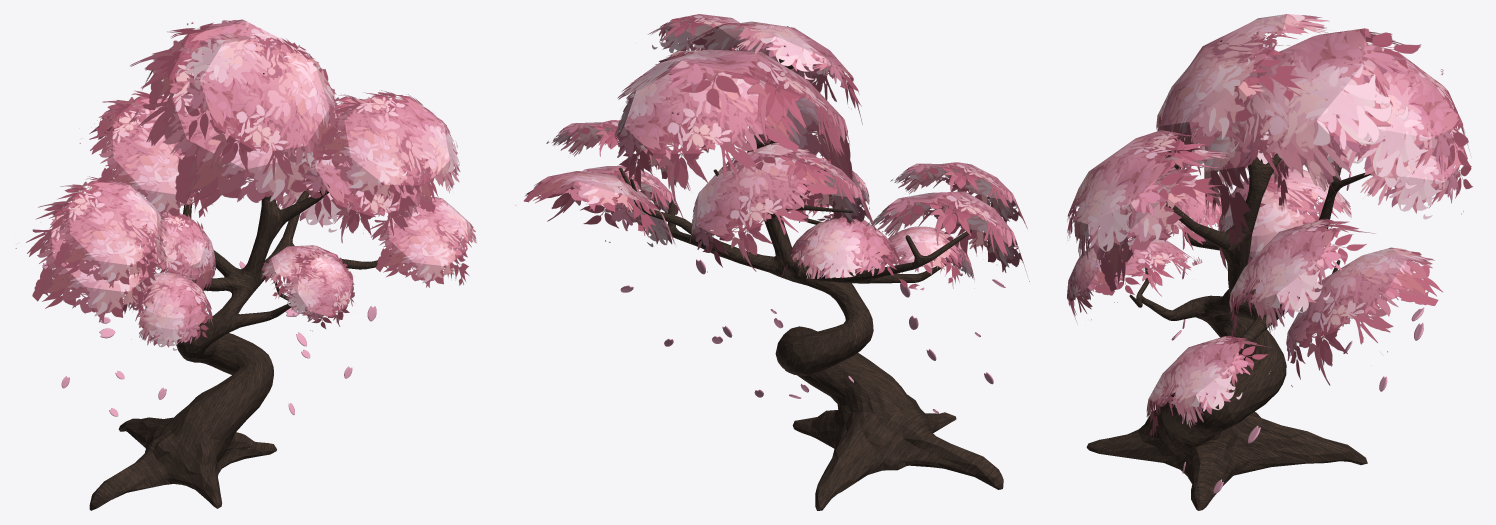
The model's file is tree_sakura.glb.
3 views of the same model, side by side, from view 1: azimuth 30°, elevation 25°; view 2: azimuth 150°, elevation 25°; view 3: azimuth 270°, elevation 25° (orthographic). The views are drawn at different scales.
Visible parts, largest first — view 1: Plane.004, pPlane19, pPlane17, pPlane18, pPlane22, pPlane20, pPlane15, pPlane21, pPlane27, pSphere2, pPlane26, pPlane14 (+5 smaller); view 2: Plane.004, pPlane23, pPlane17, pPlane24, pPlane21, pPlane19, pPlane28, pSphere4, pPlane22, pPlane20, pSphere2, pPlane16 (+2 smaller); view 3: Plane.004, pPlane17, pPlane19, pPlane28, pPlane18, pPlane23, pPlane16, pPlane15, pPlane27, pSphere4, pPlane24, pPlane25 (+4 smaller).
Boxes of the visible parts, x1=… form: Plane.004: x1=89, y1=73, x2=390, y2=510; pPlane19: x1=169, y1=32, x2=340, y2=192; pPlane17: x1=126, y1=19, x2=314, y2=211; pPlane18: x1=314, y1=90, x2=460, y2=221; pPlane22: x1=40, y1=176, x2=166, y2=287; pPlane20: x1=79, y1=90, x2=212, y2=217; pPlane15: x1=363, y1=196, x2=476, y2=287; pPlane21: x1=15, y1=197, x2=166, y2=322; pPlane27: x1=293, y1=117, x2=438, y2=244; pSphere2: x1=122, y1=272, x2=213, y2=350; pPlane26: x1=282, y1=251, x2=354, y2=331; pPlane14: x1=156, y1=212, x2=212, y2=273; Plane.004: x1=619, y1=26, x2=1003, y2=510; pPlane23: x1=610, y1=69, x2=801, y2=209; pPlane17: x1=617, y1=49, x2=852, y2=180; pPlane24: x1=690, y1=143, x2=837, y2=272; pPlane21: x1=866, y1=191, x2=1029, y2=281; pPlane19: x1=681, y1=21, x2=862, y2=124; pPlane28: x1=515, y1=171, x2=675, y2=246; pSphere4: x1=782, y1=217, x2=902, y2=278; pPlane22: x1=890, y1=162, x2=1027, y2=228; pPlane20: x1=720, y1=151, x2=875, y2=230; pSphere2: x1=871, y1=226, x2=974, y2=290; pPlane16: x1=546, y1=120, x2=690, y2=190; Plane.004: x1=1086, y1=40, x2=1370, y2=510; pPlane17: x1=1204, y1=28, x2=1443, y2=250; pPlane19: x1=1159, y1=14, x2=1329, y2=168; pPlane28: x1=1286, y1=247, x2=1442, y2=387; pPlane18: x1=1067, y1=130, x2=1219, y2=259; pPlane23: x1=1327, y1=48, x2=1471, y2=194; pPlane16: x1=1229, y1=218, x2=1374, y2=338; pPlane15: x1=1146, y1=335, x2=1271, y2=439; pPlane27: x1=1096, y1=150, x2=1230, y2=291; pSphere4: x1=1218, y1=168, x2=1351, y2=268; pPlane24: x1=1330, y1=112, x2=1472, y2=219; pPlane25: x1=1089, y1=238, x2=1195, y2=302.
Size of the model in its own units: 19.36 by 16.64 by 12.67.
19 materials, 18 textured.
